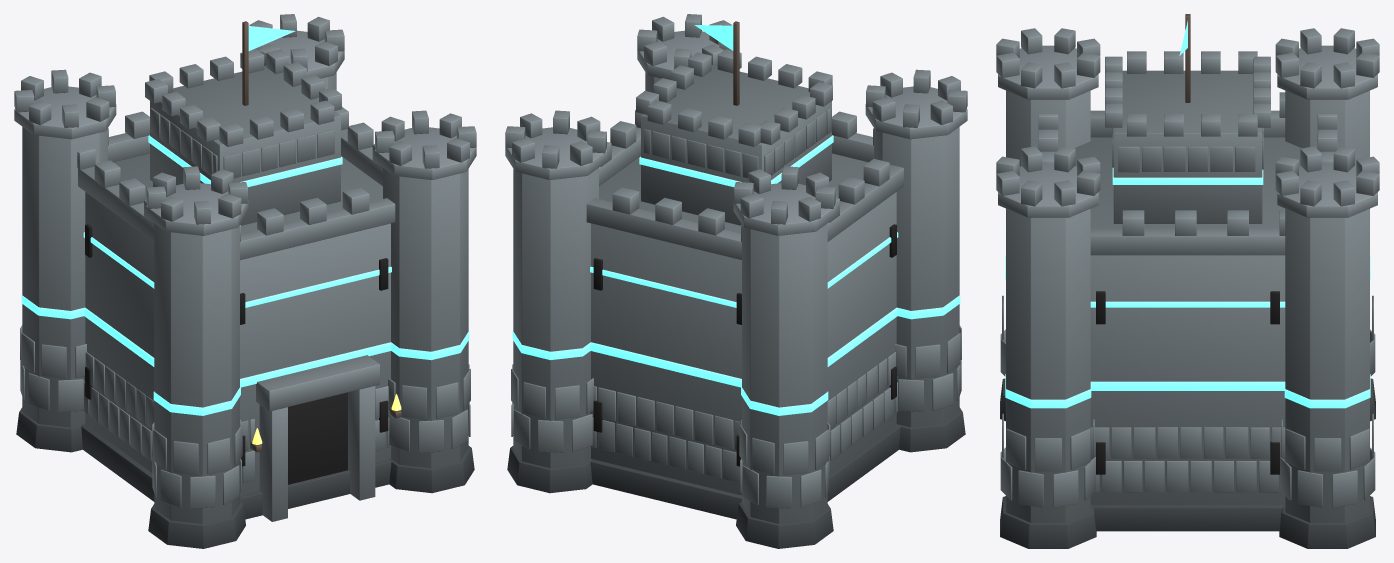
The model's file is castle_keep_a.glb.
The picture shows the model from 3 angles, left to right: view 1: azimuth 30°, elevation 25°; view 2: azimuth 150°, elevation 25°; view 3: azimuth 270°, elevation 25°; orthographic projection. The views are drawn at different scales.
Parts seen in each view (by area): view 1: castle_keep_a; view 2: castle_keep_a; view 3: castle_keep_a.
Boxes of the visible parts, bbox=[...] form: castle_keep_a: bbox=[14, 14, 476, 548]; castle_keep_a: bbox=[505, 14, 967, 548]; castle_keep_a: bbox=[996, 14, 1379, 548].
Bounding box in the file's own units: 8.78 × 11.5 × 8.78.
Materials: 3 (1 with a texture image).
